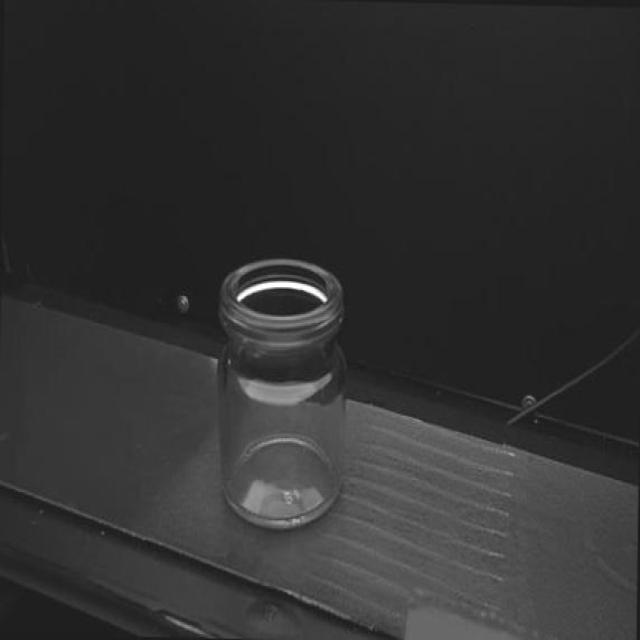defect: (227, 358, 231, 364)
glass: (211, 255, 350, 532)
